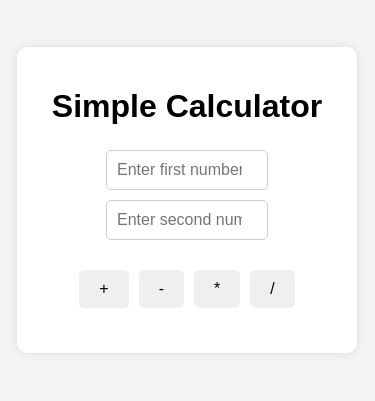
Scenario: performs addition operation
Type "2" into the number field with placeholder "Enter first number" at (187, 170), box [106,150,268,190]
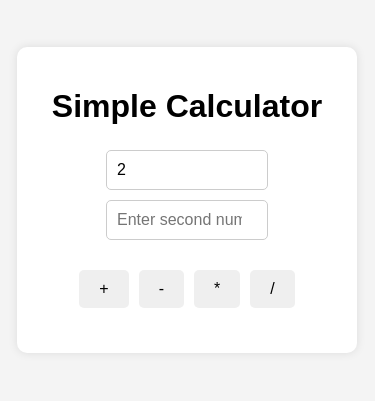
Type "3" into the number field with placeholder "Enter second number" at (187, 220), box [106,200,268,240]
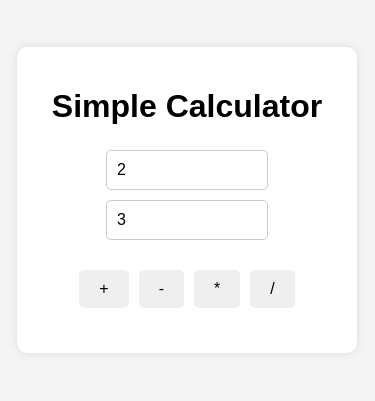
Click the button "+" at (104, 289), box [79,270,129,308]
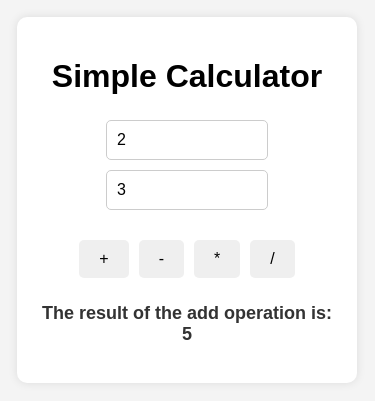
Expected: the text "The result of the add operation is: 5" is shown, [37,303,337,345]
